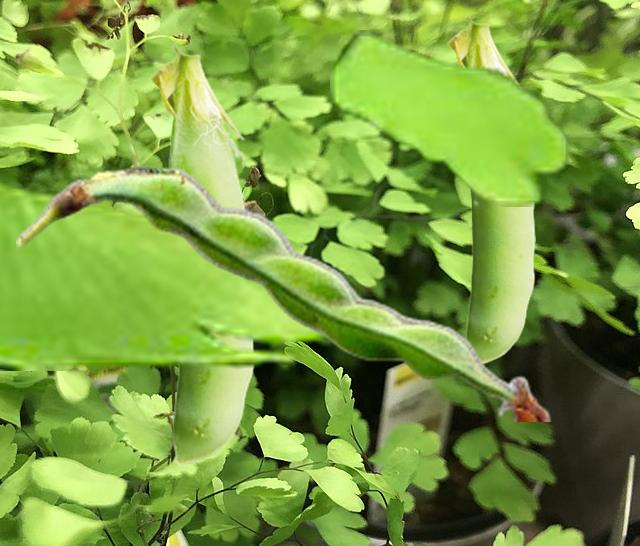pea: (16, 166, 551, 420), (150, 42, 254, 465), (447, 13, 534, 365)
